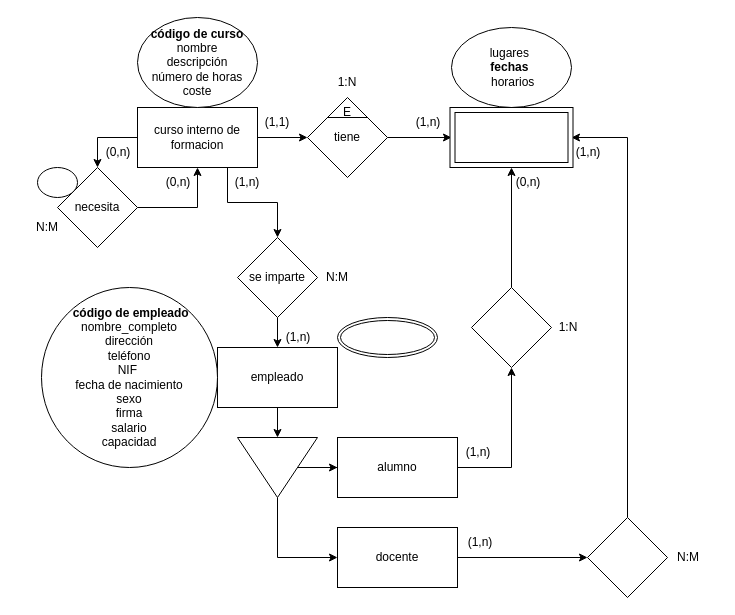
Some shapes in this 735 by 615 pixel diagram are drawn without their labels. The centre of each missing label's shape, as x and y in pixels:
"asistió" belongs at (511,327).
"edición" belongs at (511,137).
"impartió" belongs at (627,557).
"ISA" belongs at (277,467).
"nacionalidad" belongs at (387,337).
"tipo" belongs at (57,182).
